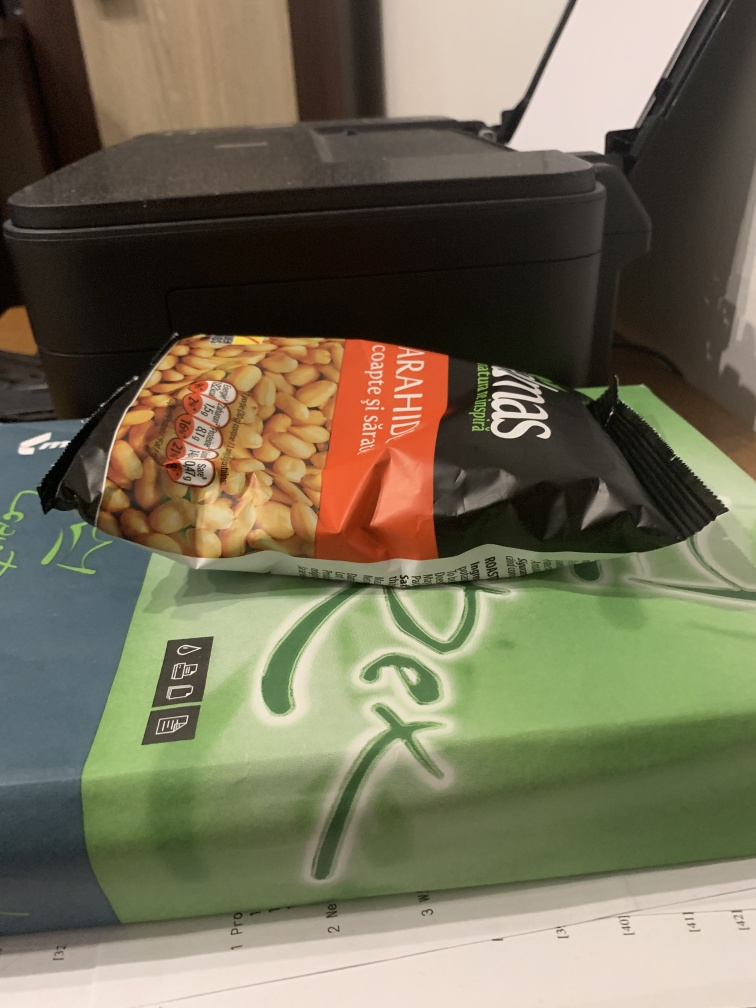peanuts: (28, 323, 732, 599)
